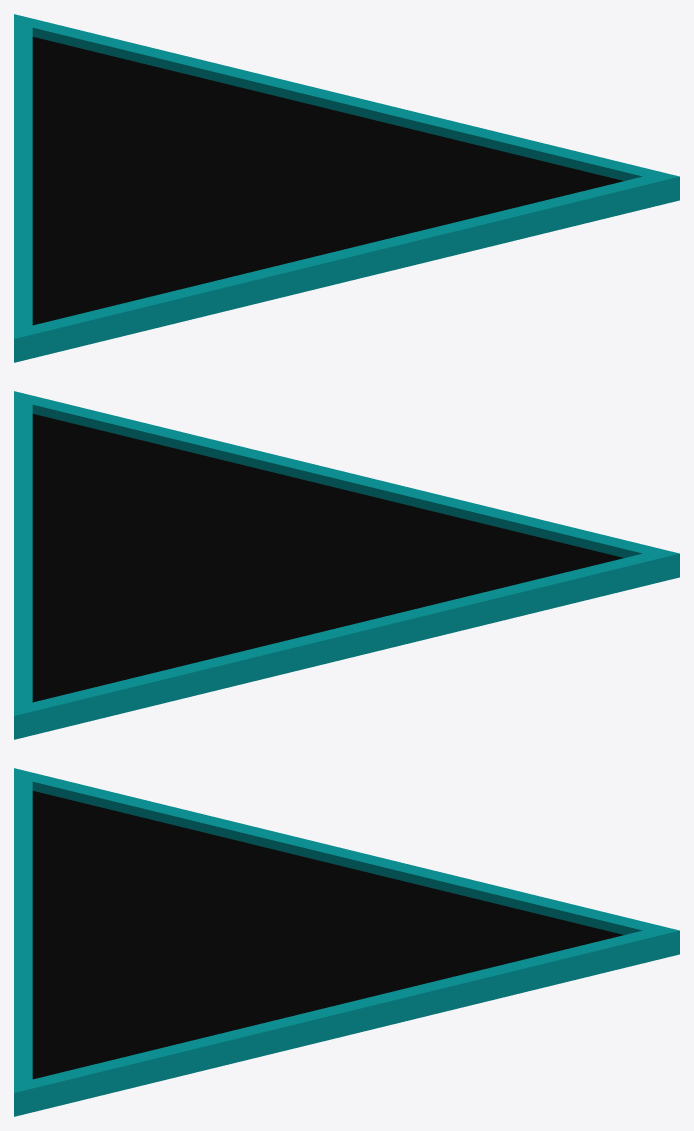
Rendered from SFI0310024.fbx.
3 views of the same model, one above another, from view 1: azimuth 30°, elevation 25°; view 2: azimuth 150°, elevation 25°; view 3: azimuth 270°, elevation 25° (orthographic).
Visible parts, largest first — view 1: smSFI0310024; view 2: smSFI0310024; view 3: smSFI0310024.
Part boxes in pixels (bbox=[...]): smSFI0310024: bbox=[14, 14, 679, 362]; smSFI0310024: bbox=[14, 391, 679, 739]; smSFI0310024: bbox=[14, 768, 679, 1116].
Size of the model in its own units: 173 by 5.93 by 150.
